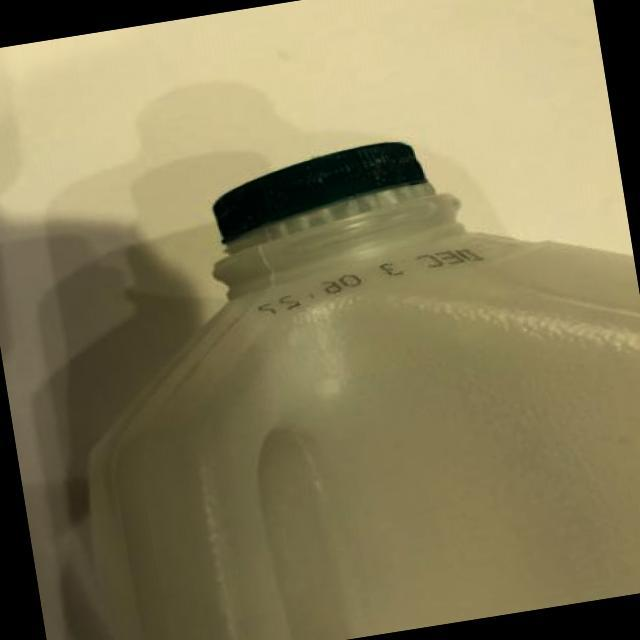HDPE Plastic: (81, 140, 640, 612)
